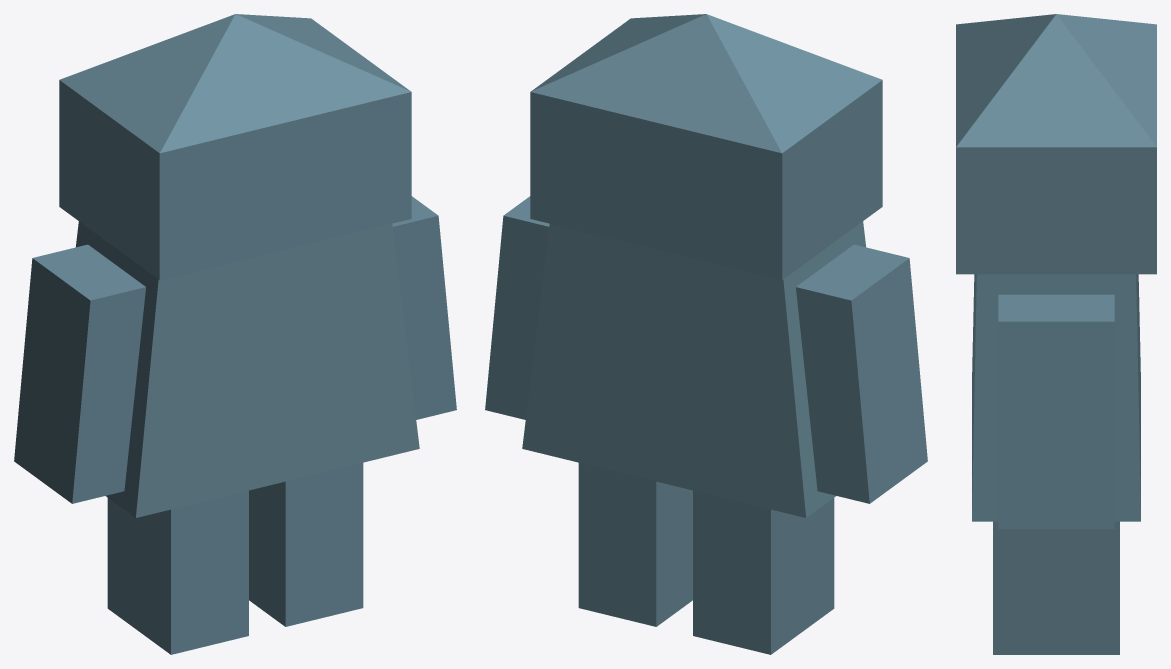
File: pawn.obj
3 renders of one model, left to right at view 1: azimuth 30°, elevation 25°; view 2: azimuth 150°, elevation 25°; view 3: azimuth 270°, elevation 25°, orthographic.
Parts seen in each view (by area): view 1: prototype_pawn; view 2: prototype_pawn; view 3: prototype_pawn.
Part boxes in pixels (x1,y1,x2,y2): prototype_pawn: (14,14,456,654); prototype_pawn: (485,14,927,654); prototype_pawn: (956,14,1156,654).
Bounding box in the file's own units: 1.68 × 2.48 × 0.76.
